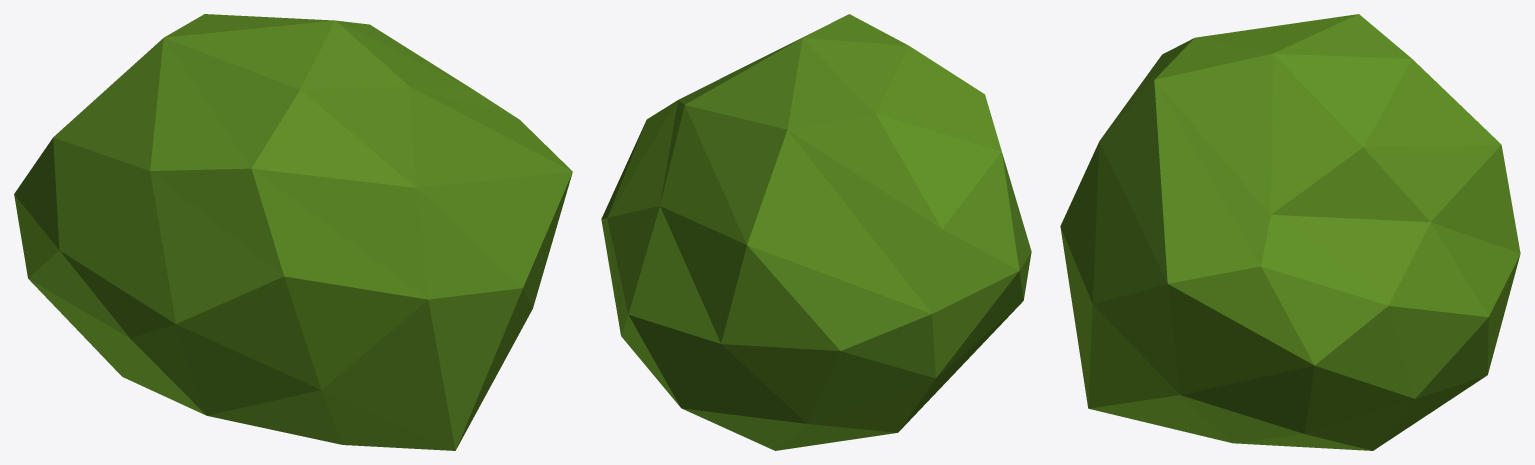
The model's file is tree11.dae.
3 views of the same model, side by side, from view 1: azimuth 30°, elevation 25°; view 2: azimuth 150°, elevation 25°; view 3: azimuth 270°, elevation 25° (orthographic). The views are drawn at different scales.
Visible parts, largest first — view 1: Icosphere_059; view 2: Icosphere_059; view 3: Icosphere_059.
Part boxes in pixels (<box>): Icosphere_059: <box>14,14,572,450</box>; Icosphere_059: <box>601,14,1031,450</box>; Icosphere_059: <box>1060,14,1520,450</box>.
Size of the model in its own units: 1.34 by 1.24 by 1.13.
